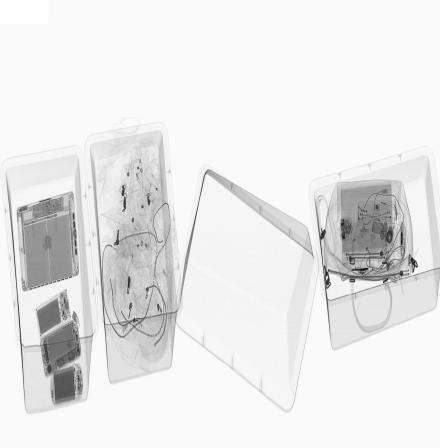Powerbank: (34, 288, 71, 341), (52, 365, 82, 404)
